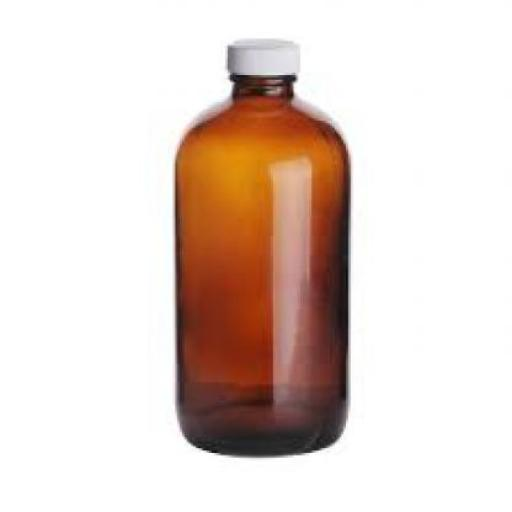glass: (178, 73, 352, 455)
plastic: (229, 36, 301, 76)
